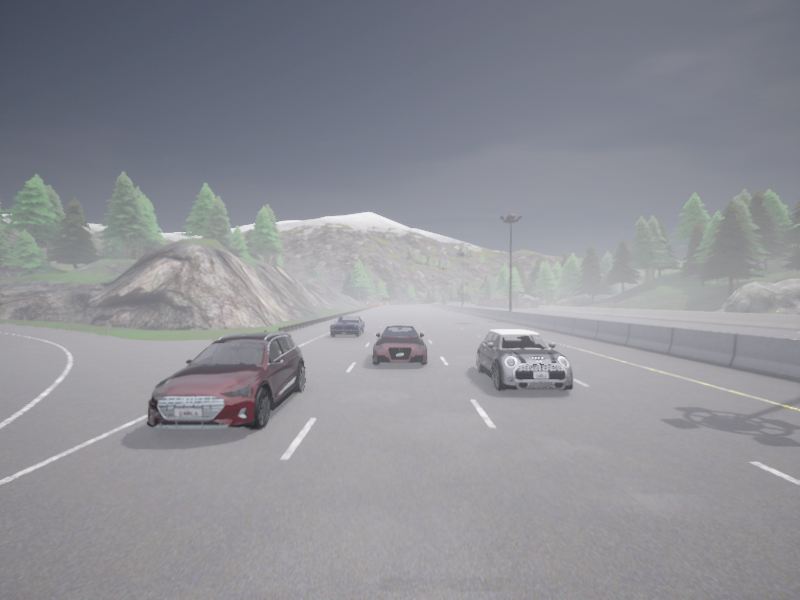vehicle: (146, 330, 305, 429), (477, 330, 572, 390), (372, 326, 427, 365), (330, 316, 364, 337), (480, 297, 490, 299), (441, 302, 445, 304), (471, 302, 476, 303)
